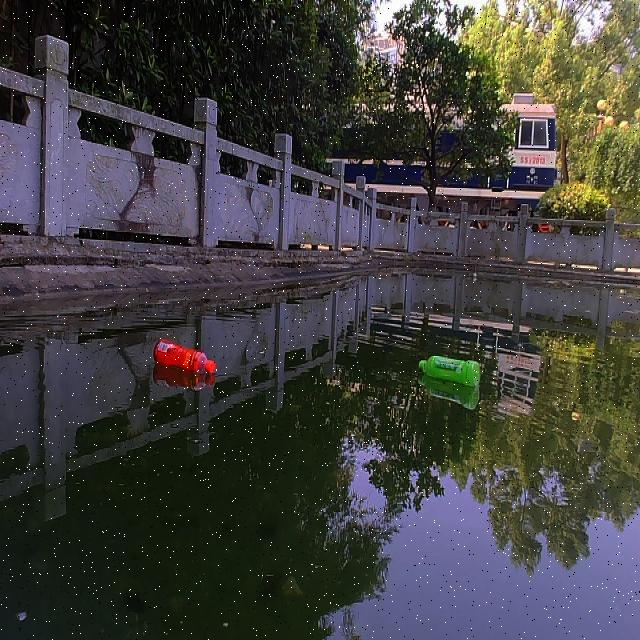Bottle: (151, 336, 215, 376), (416, 353, 483, 388)
